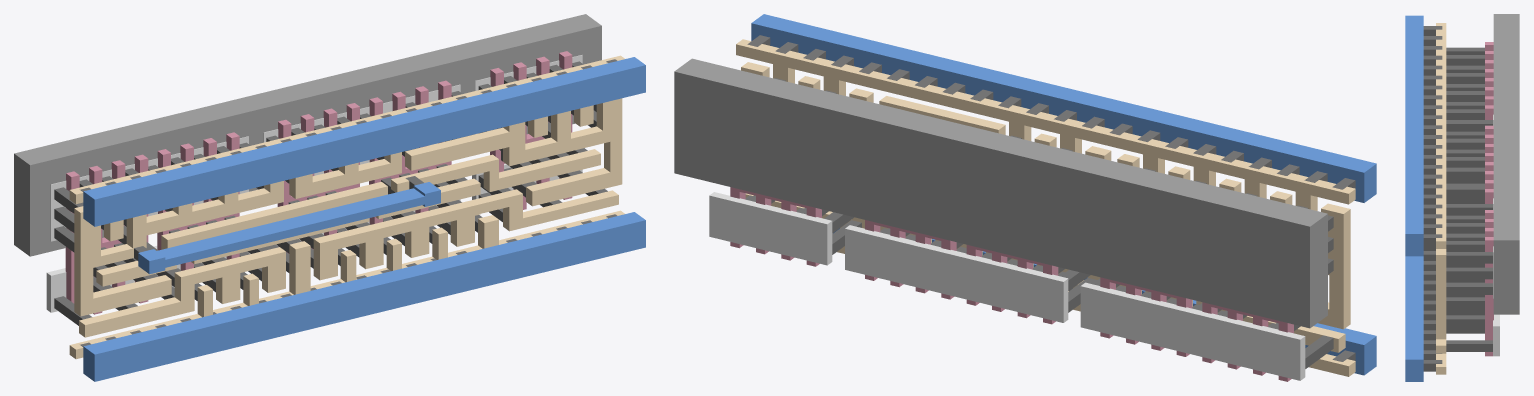
File: sky130_fd_sc_hd__xnor2_4.gds.gltf
3 views of the same model, side by side, from view 1: azimuth 30°, elevation 25°; view 2: azimuth 150°, elevation 25°; view 3: azimuth 270°, elevation 25° (orthographic). The views are drawn at different scales.
Parts seen in each view (by area): view 1: sky130_fd_sc_hd__xnor2_4_li1, sky130_fd_sc_hd__xnor2_4_met1, sky130_fd_sc_hd__xnor2_4_nwell, sky130_fd_sc_hd__xnor2_4_licon, sky130_fd_sc_hd__xnor2_4_poly, sky130_fd_sc_hd__xnor2_4_diff, sky130_fd_sc_hd__xnor2_4_mcon; view 2: sky130_fd_sc_hd__xnor2_4_nwell, sky130_fd_sc_hd__xnor2_4_diff, sky130_fd_sc_hd__xnor2_4_li1, sky130_fd_sc_hd__xnor2_4_met1, sky130_fd_sc_hd__xnor2_4_poly, sky130_fd_sc_hd__xnor2_4_mcon, sky130_fd_sc_hd__xnor2_4_licon; view 3: sky130_fd_sc_hd__xnor2_4_licon, sky130_fd_sc_hd__xnor2_4_nwell, sky130_fd_sc_hd__xnor2_4_met1, sky130_fd_sc_hd__xnor2_4_mcon, sky130_fd_sc_hd__xnor2_4_li1, sky130_fd_sc_hd__xnor2_4_poly, sky130_fd_sc_hd__xnor2_4_diff.
Boxes of the visible parts, x1,y1,x2,y2 form: sky130_fd_sc_hd__xnor2_4_li1: (69,55,624,359); sky130_fd_sc_hd__xnor2_4_met1: (83,57,645,381); sky130_fd_sc_hd__xnor2_4_nwell: (14,14,601,256); sky130_fd_sc_hd__xnor2_4_licon: (54,61,607,325); sky130_fd_sc_hd__xnor2_4_poly: (65,51,572,314); sky130_fd_sc_hd__xnor2_4_diff: (46,55,582,312); sky130_fd_sc_hd__xnor2_4_mcon: (80,59,617,346); sky130_fd_sc_hd__xnor2_4_nwell: (674,58,1327,328); sky130_fd_sc_hd__xnor2_4_diff: (709,192,1305,380); sky130_fd_sc_hd__xnor2_4_li1: (736,39,1355,376); sky130_fd_sc_hd__xnor2_4_met1: (751,14,1376,375); sky130_fd_sc_hd__xnor2_4_poly: (730,187,1293,381); sky130_fd_sc_hd__xnor2_4_mcon: (747,35,1355,361); sky130_fd_sc_hd__xnor2_4_licon: (745,78,1333,368); sky130_fd_sc_hd__xnor2_4_licon: (1446,47,1492,351); sky130_fd_sc_hd__xnor2_4_nwell: (1493,14,1519,314); sky130_fd_sc_hd__xnor2_4_met1: (1405,15,1423,381); sky130_fd_sc_hd__xnor2_4_mcon: (1423,26,1442,371); sky130_fd_sc_hd__xnor2_4_li1: (1436,23,1446,374); sky130_fd_sc_hd__xnor2_4_poly: (1485,42,1493,356); sky130_fd_sc_hd__xnor2_4_diff: (1493,114,1499,356).
Bounding box in the file's own units: 10.5 × 3.2 × 2.24.
